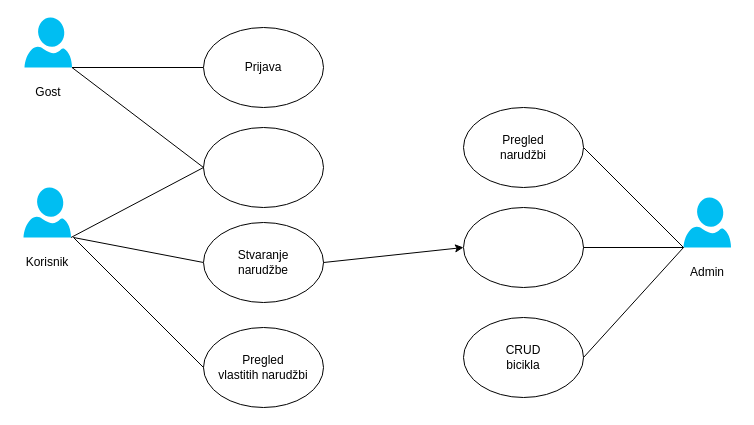
This 754x425 diagram has some shape labels left out. The shapes that lost their labels are listed below. From the top down, each one's centre as x and y in pixels, then its label:
At point 263,167: "Pregled bicikala".
At point 523,247: "Prihvatanje, odbijanje narudžbi".
